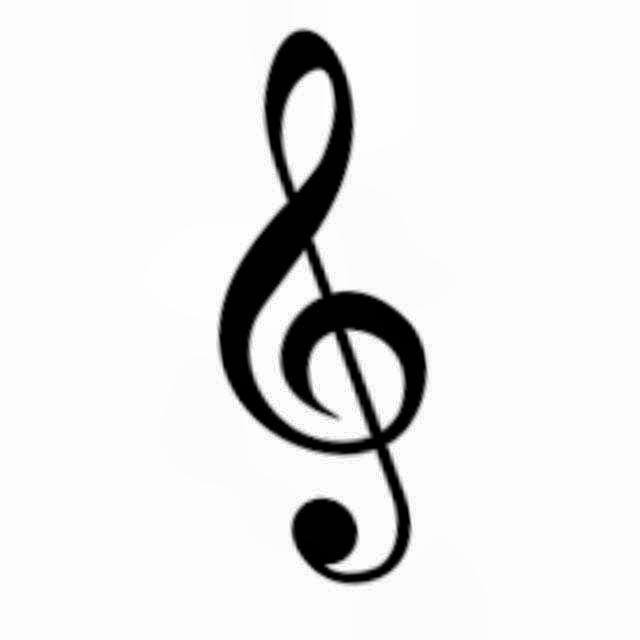Treble-clef: (172, 25, 496, 597)
